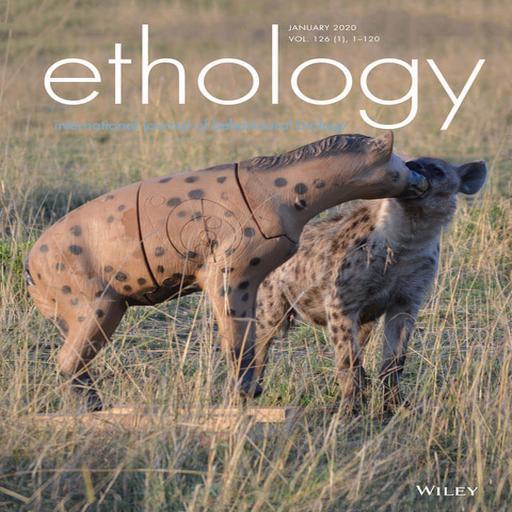Hyena: (0, 123, 428, 412), (200, 144, 492, 428)
